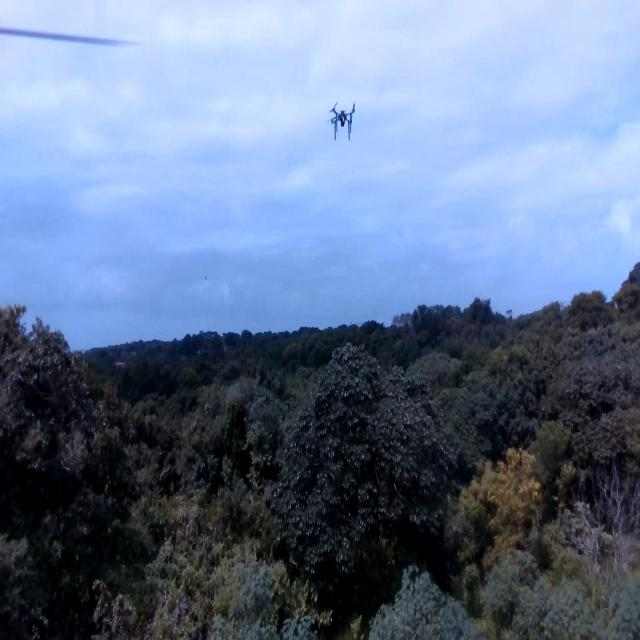-uav-: (319, 94, 369, 150)
